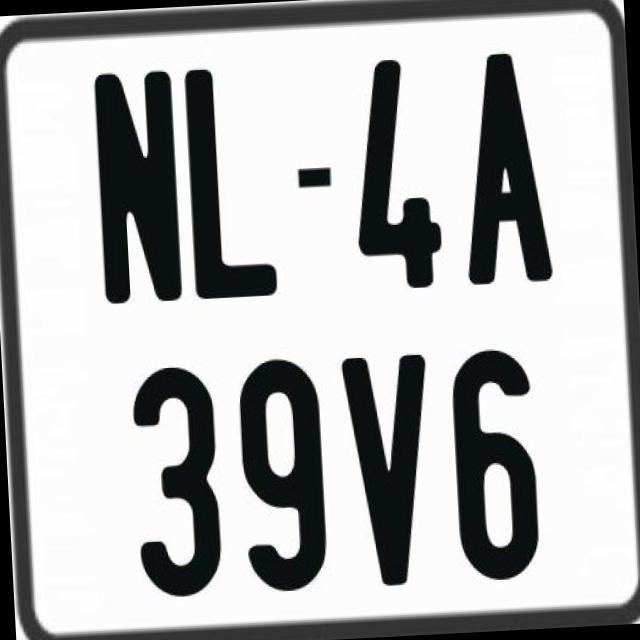3: (130, 364, 230, 606)
4: (349, 58, 451, 296)
6: (447, 348, 545, 586)
9: (235, 356, 329, 594)
A: (454, 48, 558, 290)
L: (180, 63, 277, 296)
N: (92, 70, 186, 306)
V: (340, 354, 440, 590)
